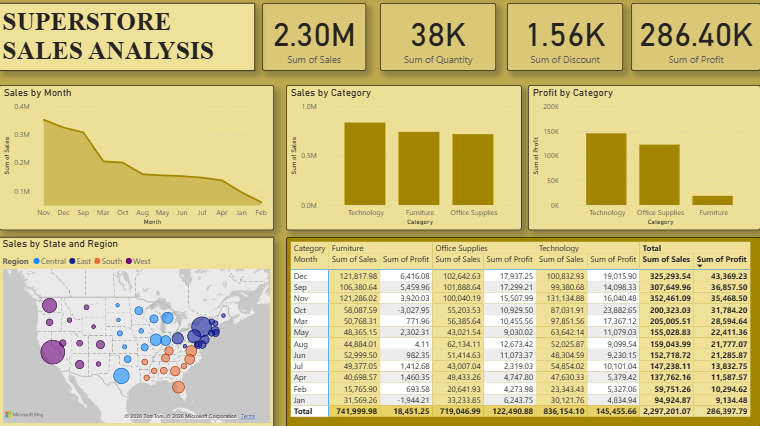

The dashboard page shown, as its layout file describes it:
{"tool":"powerbi","page":{"name":"Page 1","canvas":[1280,720],"ordinal":0},"visuals":[{"type":"card","fields":{"Values":["Sum(Superstoree excel.Sales)"]},"box":[430,8.4,210,114.2],"z":0},{"type":"card","fields":{"Values":["Sum(Superstoree excel.Profit)"]},"box":[1061.6,8.4,218.4,114.2],"z":1000},{"type":"card","fields":{"Values":["Sum(Superstoree excel.Discount)"]},"box":[853.3,8.4,194.9,114.2],"z":2000},{"type":"card","fields":{"Values":["Sum(Superstoree excel.Quantity)"]},"box":[640,8.4,194.9,114.2],"z":3000},{"type":"columnChart","title":"Sales by Category","fields":{"Category":["Superstoree excel.Category"],"Y":["Sum(Superstoree excel.Sales)"]},"box":[482.1,146.1,396.4,243.6],"z":4000},{"type":"clusteredColumnChart","title":" Profit by Category","fields":{"Y":["Sum(Superstoree excel.Profit)"],"Category":["Superstoree excel.Category"]},"box":[888.6,146.1,391.4,243.6],"z":5000},{"type":"lineChart","title":" Sales by Month","fields":{"Category":["Superstoree excel.Month"],"Y":["Sum(Superstoree excel.Sales)"]},"box":[0,146.1,461.9,243.6],"z":6000},{"type":"pivotTable","fields":{"Rows":["Superstoree excel.Month"],"Columns":["Superstoree excel.Category"],"Values":["Sum(Superstoree excel.Sales)","Sum(Superstoree excel.Profit)"]},"box":[482.1,401.5,797.9,319.2],"z":7000},{"type":"map","title":"Sales by State and Region","fields":{"Series":["Superstoree excel.Region"],"Size":["Sum(Superstoree excel.Sales)"],"Category":["Superstoree excel.State"]},"box":[0,401.5,461.9,319.2],"z":8000},{"type":"textbox","box":[0,8.4,430,114.2],"z":9000}]}

Visuals, with their boxes in screenshot pixels (x1, y1, x2, y2), scaled from the page's 1280x720 canvas onto the 760x426 screenshot:
card - Sum(Superstoree excel.Sales): select_region(255, 5, 380, 73)
card - Sum(Superstoree excel.Profit): select_region(630, 5, 759, 73)
card - Sum(Superstoree excel.Discount): select_region(507, 5, 622, 73)
card - Sum(Superstoree excel.Quantity): select_region(380, 5, 496, 73)
"Sales by Category" columnChart: select_region(286, 86, 522, 231)
" Profit by Category" clusteredColumnChart: select_region(528, 86, 759, 231)
" Sales by Month" lineChart: select_region(0, 86, 274, 231)
pivotTable - Superstoree excel.Month x Superstoree excel.Category: select_region(286, 238, 759, 425)
"Sales by State and Region" map: select_region(0, 238, 274, 425)
textbox: select_region(0, 5, 255, 73)
